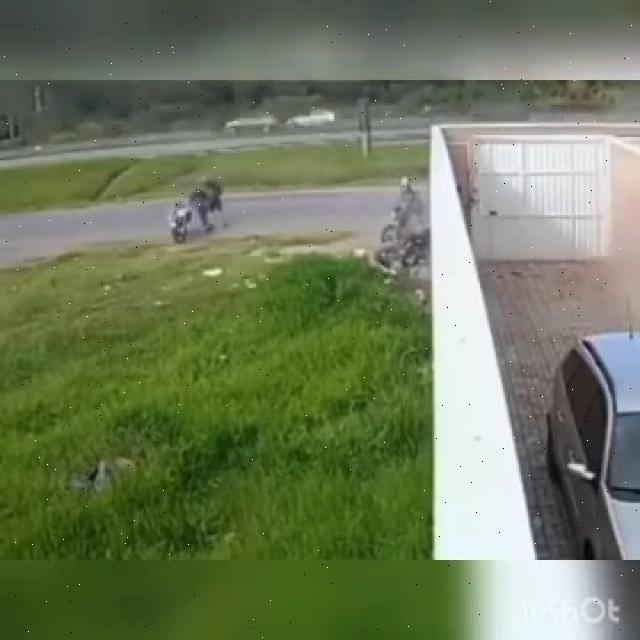accident: (359, 218, 439, 274)
